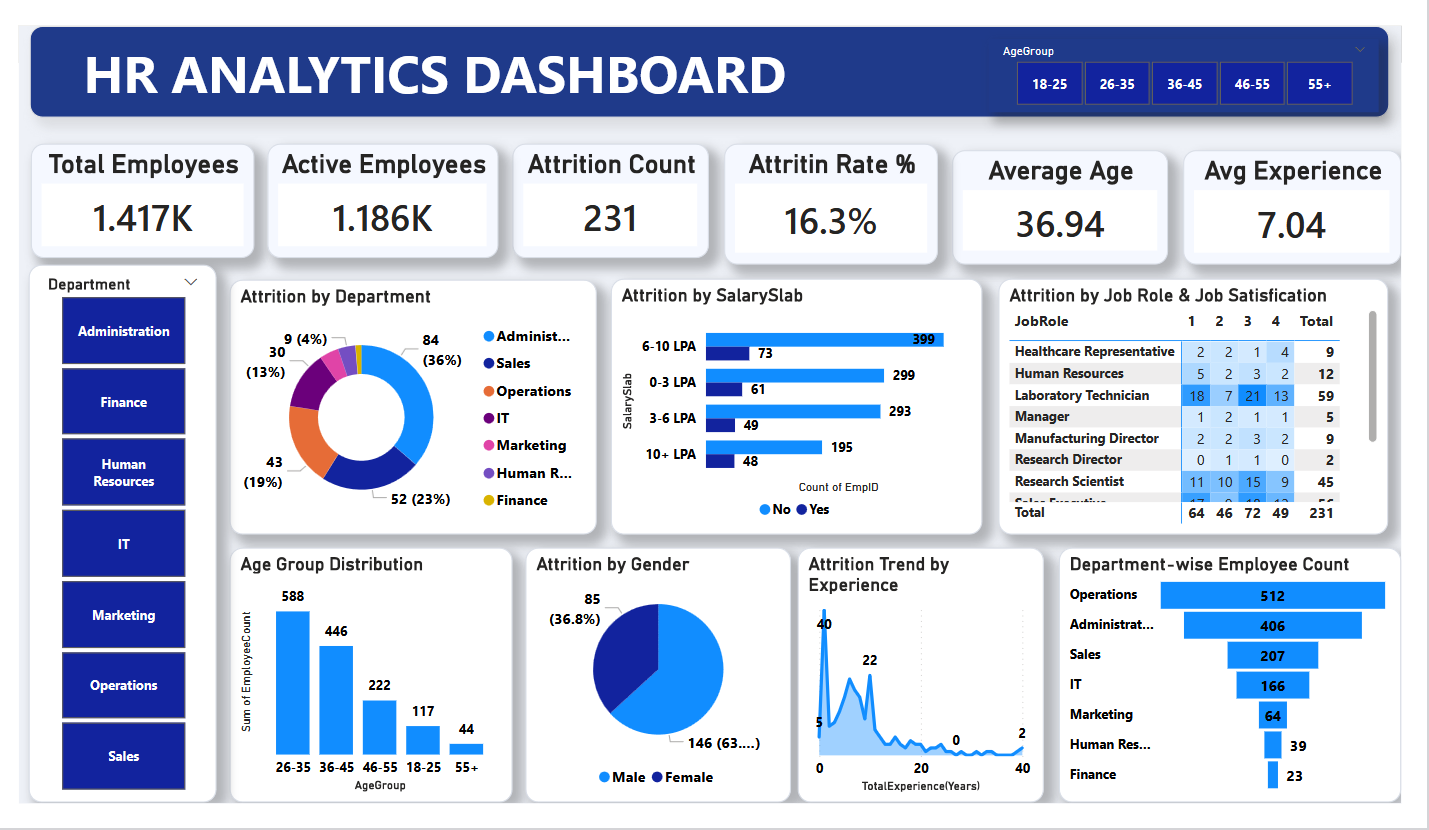

Layout of this report page (visuals, bound fields, positions):
{"tool":"powerbi","page":{"name":"Page 1","canvas":[1280,720],"ordinal":0},"visuals":[{"type":"textbox","box":[10,0,1259,85],"z":0},{"type":"cardVisual","title":"Total Employees","fields":{"Data":["CountNonNull(HR_Analytics-4.EmpID)"]},"box":[9.4,111.5,207.9,103.9],"z":1000},{"type":"cardVisual","title":"Attrition Count","fields":{"Data":["Sum(HR_Analytics-4.AttritionCount)"]},"box":[457.3,111.5,181.4,103.9],"z":2000},{"type":"cardVisual","title":"Average Age","fields":{"Data":["Avg(HR_Analytics-4.Age)"]},"box":[863.6,115.3,200.3,105.8],"z":3000},{"type":"cardVisual","title":"Avg Experience ","fields":{"Data":["Avg(HR_Analytics-4.YearsatCompany)"]},"box":[1077.2,111.5,202.2,109.6],"z":4000},{"type":"cardVisual","title":"Active Employees","fields":{"Data":["CountNonNull(HR_Analytics-4.EmployeeCount)"]},"box":[224.9,109.6,219.2,105.8],"z":5000},{"type":"cardVisual","title":"Attritin Rate %","fields":{"Data":["HR_Analytics-4.Attrition Rate %"]},"box":[653.9,115.3,196.5,105.8],"z":6000},{"type":"donutChart","title":"Attrition by Department","fields":{"Category":["HR_Analytics-4.Department"],"Y":["Sum(HR_Analytics-4.AttritionCount)"]},"box":[195.3,234.7,339.2,236.2],"z":7000},{"type":"clusteredBarChart","title":"Attrition by SalarySlab","fields":{"Category":["HR_Analytics-4.SalarySlab"],"Y":["CountNonNull(HR_Analytics-4.EmpID)"],"Series":["HR_Analytics-4.Attrition"]},"box":[548,234.3,343.9,236.2],"z":8000},{"type":"pivotTable","title":"Attrition by Job Role & Job Satisfication","fields":{"Rows":["HR_Analytics-4.JobRole"],"Columns":["HR_Analytics-4.JobSatisfaction"],"Values":["Sum(HR_Analytics-4.AttritionCount)"]},"box":[907.1,234.3,360.9,236.2],"z":9000},{"type":"columnChart","title":"Age Group Distribution","fields":{"Category":["HR_Analytics-4.AgeGroup"],"Y":["Sum(HR_Analytics-4.EmployeeCount)"]},"box":[195.3,483,262,236.2],"z":10000},{"type":"pieChart","title":"Attrition by Gender","fields":{"Category":["HR_Analytics-4.Gender"],"Y":["Sum(HR_Analytics-4.AttritionCount)"]},"box":[469.4,483,245.3,236.2],"z":11000},{"type":"areaChart","title":"Attrition Trend by Experience","fields":{"Category":["HR_Analytics-4.TotalExperience(Years)"],"Y2":["Sum(HR_Analytics-4.AttritionCount)"]},"box":[720.8,483,228.6,236.2],"z":12000},{"type":"funnel","title":"Department-wise Employee Count","fields":{"Category":["HR_Analytics-4.Department"],"Y":["CountNonNull(HR_Analytics-4.EmpID)"]},"box":[963,483,316.5,236.2],"z":13000},{"type":"slicer","fields":{"Values":["HR_Analytics-4.Department"]},"box":[9.1,221.1,174.1,498.2],"z":14000},{"type":"slicer","fields":{"Values":["HR_Analytics-4.AgeGroup"]},"box":[898,12,361,68],"z":15000}]}

Visuals, with their boxes on the page's 1280x720 design canvas (x1, y1, x2, y2). These are canvas units, not pixel positions in the 1429x830 screenshot, which may show the page scaled, cropped or inside an application window:
textbox: region(10, 0, 1269, 85)
"Total Employees" cardVisual: region(9, 112, 217, 215)
"Attrition Count" cardVisual: region(457, 112, 639, 215)
"Average Age" cardVisual: region(864, 115, 1064, 221)
"Avg Experience " cardVisual: region(1077, 112, 1279, 221)
"Active Employees" cardVisual: region(225, 110, 444, 215)
"Attritin Rate %" cardVisual: region(654, 115, 850, 221)
"Attrition by Department" donutChart: region(195, 235, 534, 471)
"Attrition by SalarySlab" clusteredBarChart: region(548, 234, 892, 470)
"Attrition by Job Role & Job Satisfication" pivotTable: region(907, 234, 1268, 470)
"Age Group Distribution" columnChart: region(195, 483, 457, 719)
"Attrition by Gender" pieChart: region(469, 483, 715, 719)
"Attrition Trend by Experience" areaChart: region(721, 483, 949, 719)
"Department-wise Employee Count" funnel: region(963, 483, 1280, 719)
slicer - HR_Analytics-4.Department: region(9, 221, 183, 719)
slicer - HR_Analytics-4.AgeGroup: region(898, 12, 1259, 80)
